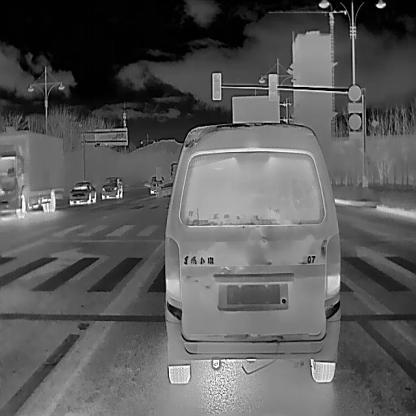car: (163, 117, 341, 386), (0, 132, 63, 219), (67, 178, 95, 206), (99, 174, 123, 198), (149, 175, 163, 195)
